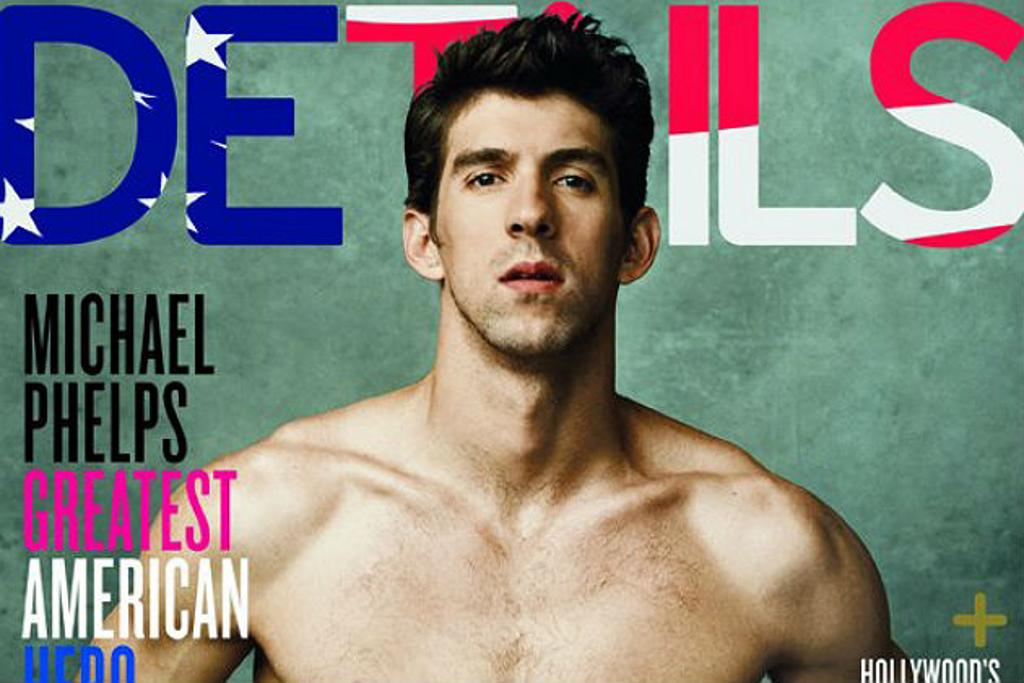face: (442, 108, 626, 350)
